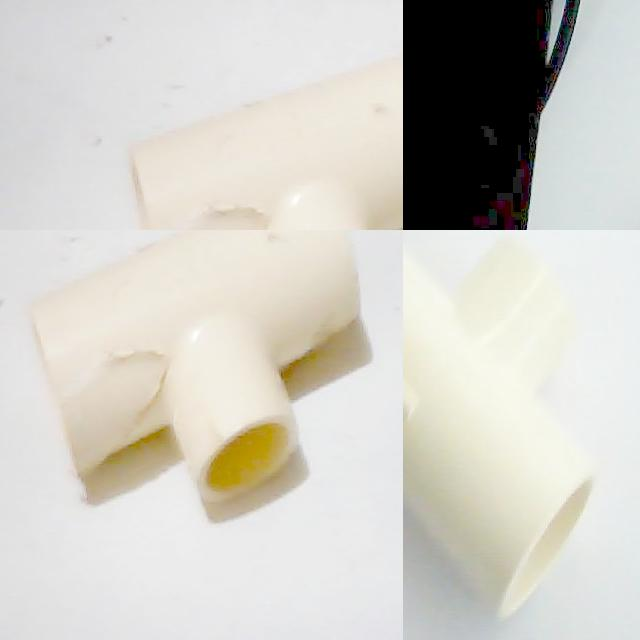Defective: (50, 334, 186, 481), (165, 199, 261, 230)
T Joint: (28, 230, 375, 524), (403, 238, 599, 624), (126, 53, 403, 230)
